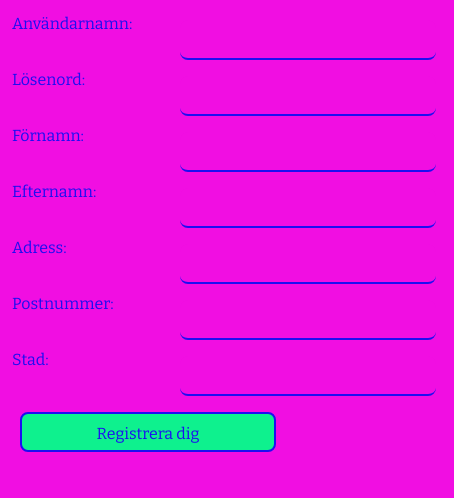
Test: SignupForm component › displays errormessage when not all fields are filled out
This screenshot has width=454, height=498.
In the field labelled "Förnamn:": (308, 152) [180,132,436,172], type "password"
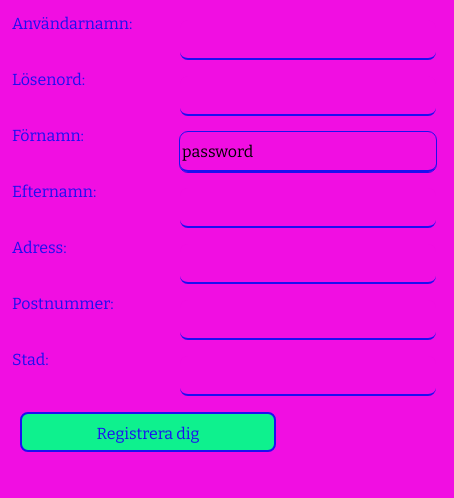
Click the button "Registrera dig": (148, 432) [20,412,276,452]
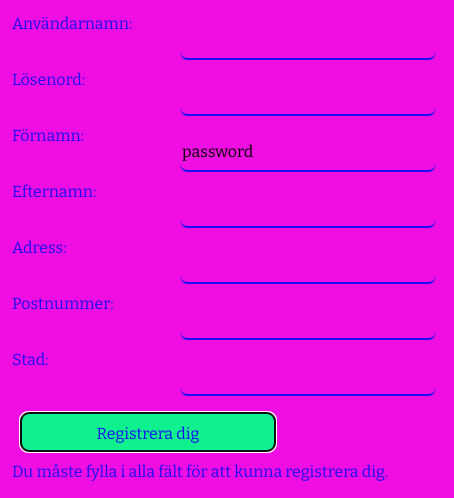
Expected: the text "Du måste fylla i alla fält för att kunna registrera dig." is shown, [12,462,388,481]
